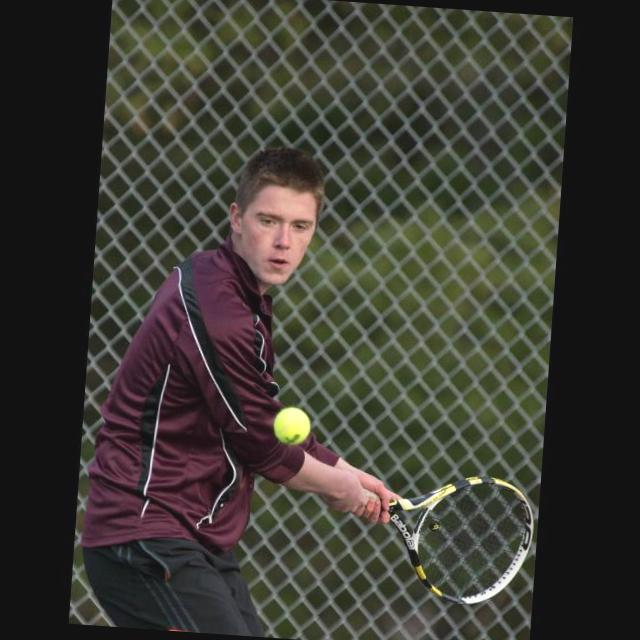Tennis Ball: (268, 404, 313, 448)
